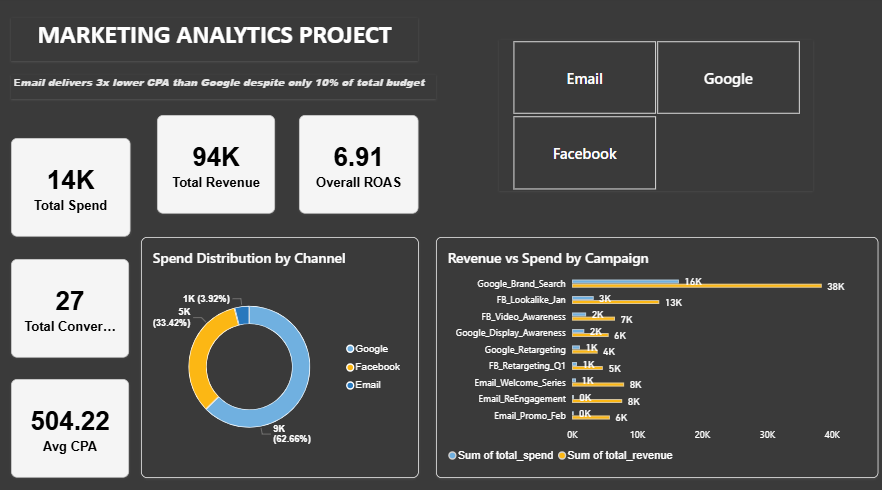

This screenshot's page, from the dashboard's own definition file:
{"tool":"powerbi","page":{"name":"Executive Summary","canvas":[1280,720],"ordinal":0},"visuals":[{"type":"card","fields":{"Values":["Sum(tbl_channel.total_spend)"]},"box":[21.7,203.3,171.7,141.7],"z":0},{"type":"card","fields":{"Values":["Sum(tbl_roas.total_revenue)"]},"box":[231.7,170,170,141.7],"z":1000},{"type":"card","fields":{"Values":["tbl_audience.Overall ROAS"]},"box":[436.7,170,171.7,141.7],"z":2000},{"type":"card","fields":{"Values":["Sum(tbl_roas.total_conversions)"]},"box":[21.7,376.7,170,141.7],"z":3000},{"type":"card","fields":{"Values":["tbl_audience.Avg CPA"]},"box":[21.7,550,170,141.7],"z":4000},{"type":"donutChart","title":"Spend Distribution by Channel","fields":{"Category":["tbl_channel.channel"],"Y":["Sum(tbl_channel.total_spend)"]},"box":[208.3,345,400,346.7],"z":5000},{"type":"clusteredBarChart","title":"Revenue vs Spend by Campaign","fields":{"Category":["tbl_roas.campaign_name"],"Y":["Sum(tbl_roas.total_spend)","Sum(tbl_roas.total_revenue)"]},"box":[633.3,345,636.7,346.7],"z":6000},{"type":"slicer","fields":{"Values":["tbl_channel.channel"]},"box":[725,61.7,451.7,216.7],"z":7000},{"type":"textbox","box":[21.7,111.7,611.7,35],"z":8000},{"type":"textbox","box":[21.8,30.2,586.2,62.2],"z":9000}]}

Visuals, with their boxes in screenshot pixels (x1, y1, x2, y2), scaled from the page's 1280x720 canvas onto the 882x490 screenshot:
card - Sum(tbl_channel.total_spend): bbox=(15, 138, 133, 235)
card - Sum(tbl_roas.total_revenue): bbox=(160, 116, 277, 212)
card - tbl_audience.Overall ROAS: bbox=(301, 116, 419, 212)
card - Sum(tbl_roas.total_conversions): bbox=(15, 256, 132, 353)
card - tbl_audience.Avg CPA: bbox=(15, 374, 132, 471)
"Spend Distribution by Channel" donutChart: bbox=(144, 235, 419, 471)
"Revenue vs Spend by Campaign" clusteredBarChart: bbox=(436, 235, 875, 471)
slicer - tbl_channel.channel: bbox=(500, 42, 811, 189)
textbox: bbox=(15, 76, 436, 100)
textbox: bbox=(15, 21, 419, 63)
